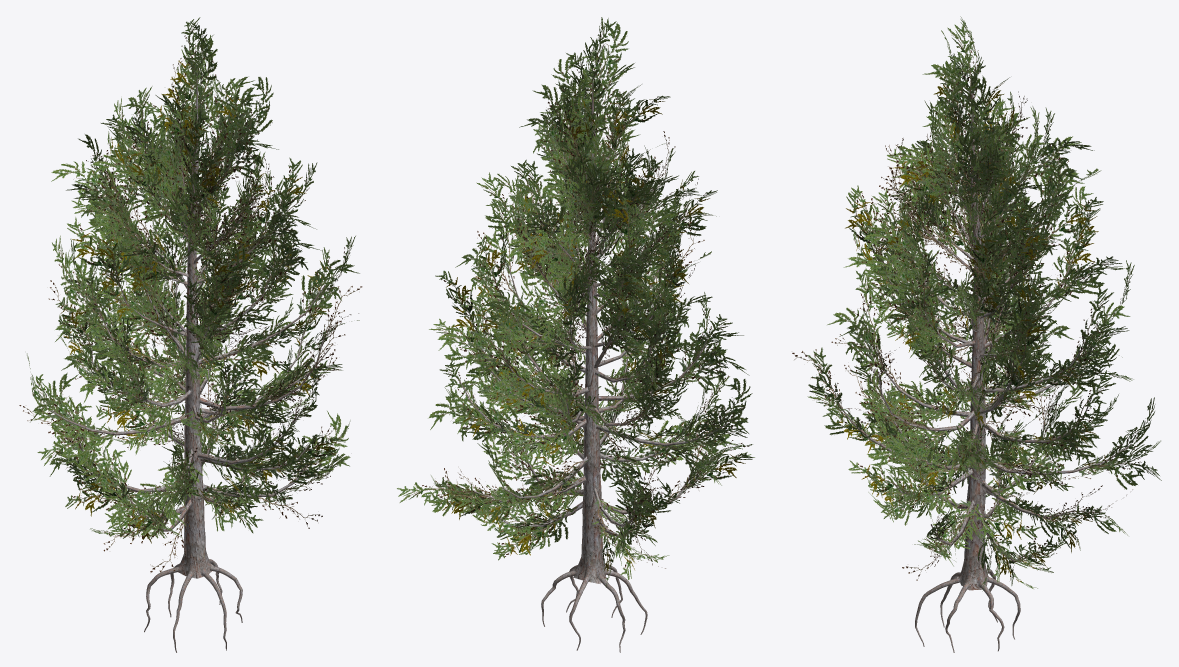
Rendered from SM_Larch.fbx.
3 views of the same model, side by side, from view 1: azimuth 30°, elevation 25°; view 2: azimuth 150°, elevation 25°; view 3: azimuth 270°, elevation 25° (orthographic).
Parts seen in each view (by area): view 1: Larch_LOD0; view 2: Larch_LOD0; view 3: Larch_LOD0.
Part boxes in pixels (x1,y1,x2,y2): Larch_LOD0: [19, 17, 362, 652]; Larch_LOD0: [397, 17, 754, 652]; Larch_LOD0: [792, 16, 1161, 652].
Bounding box in the file's own units: 1047 × 1065 × 1919.
